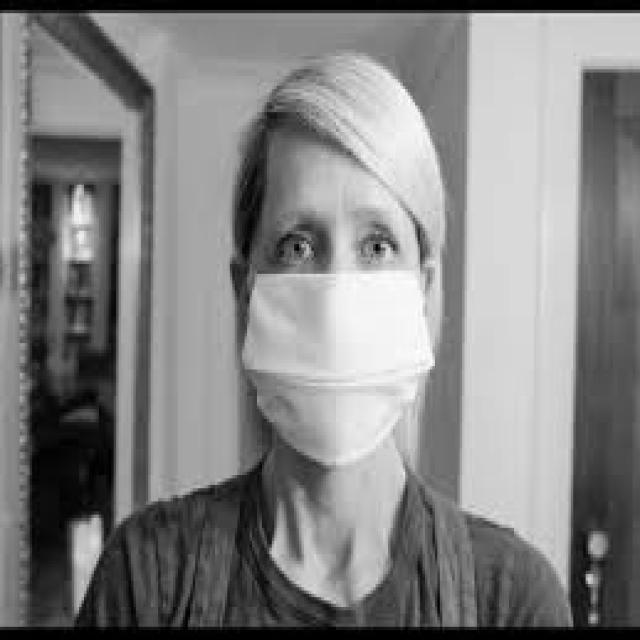with_mask: (240, 264, 435, 465)
